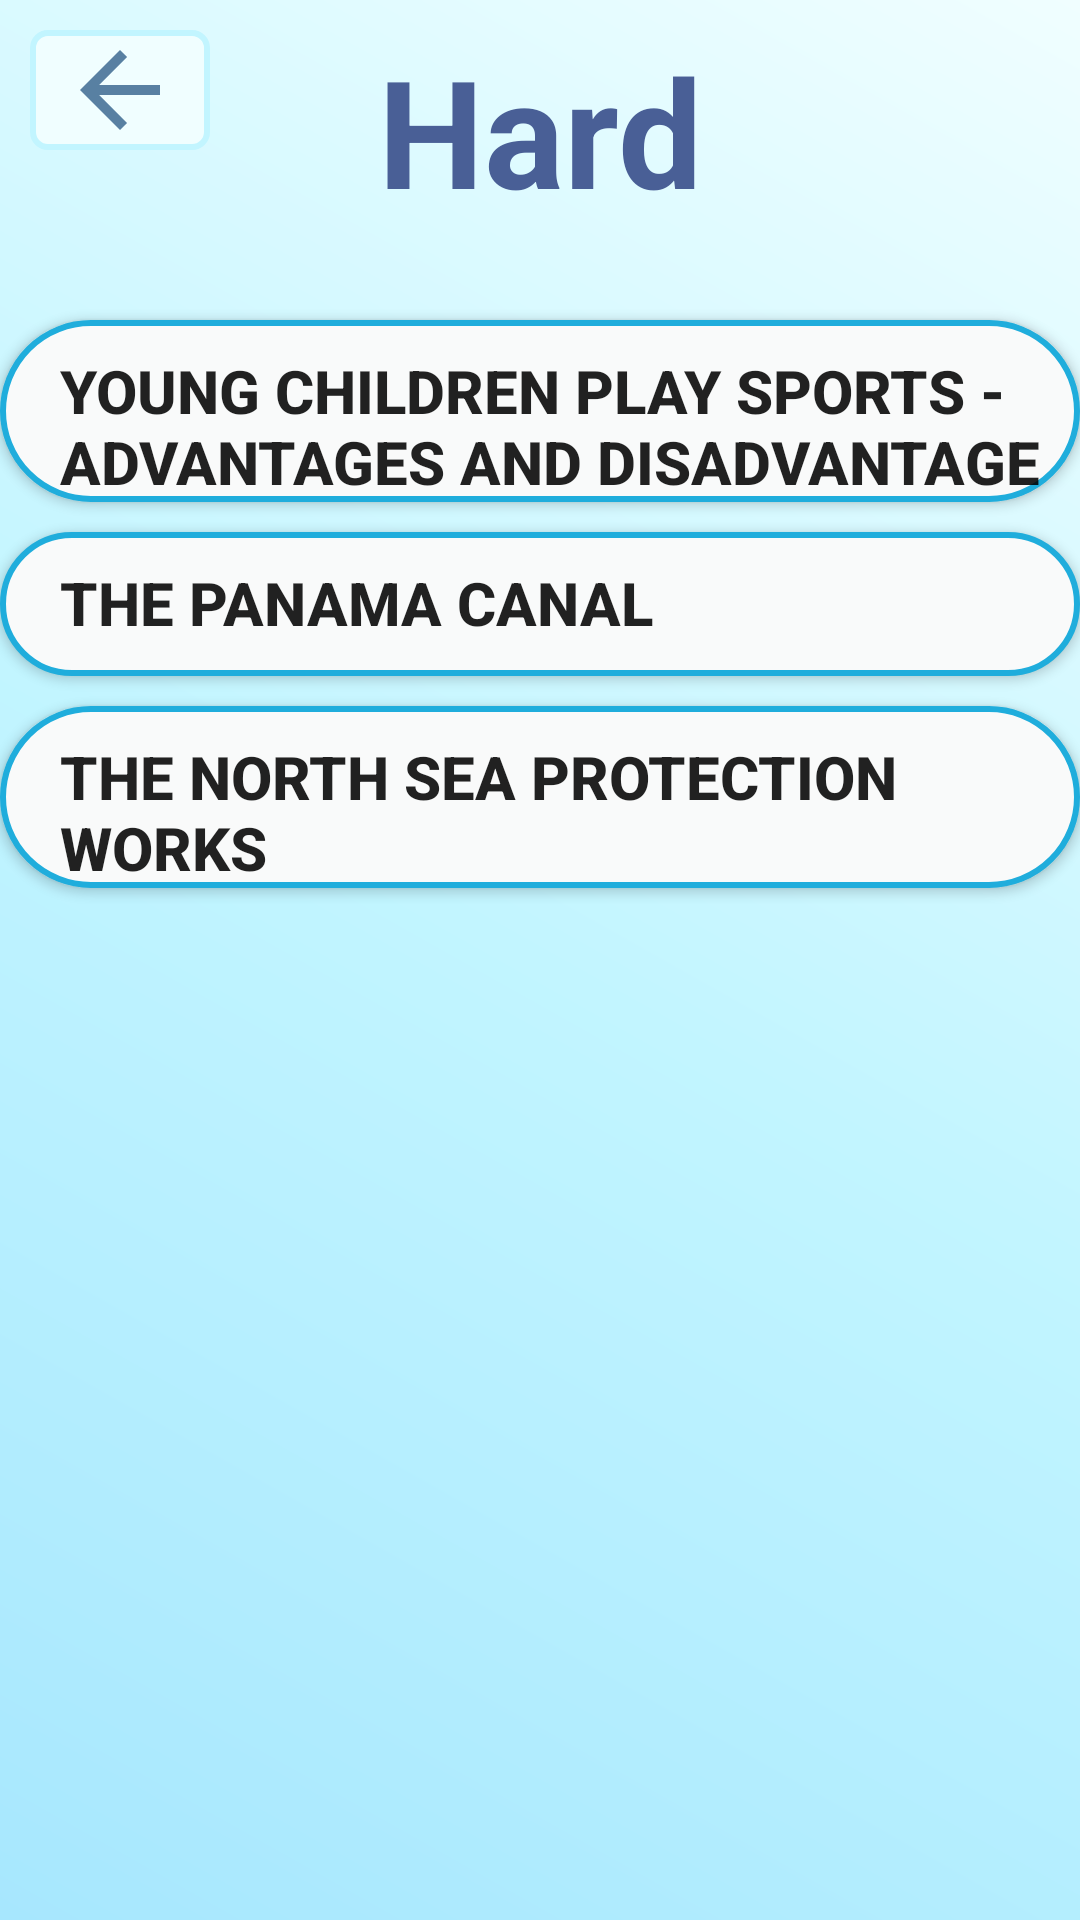

Screen size 1080px x 1920px. Icon name, then its box in pixels as (x1, y1, x2, y2):
back: (30, 30, 210, 150)
